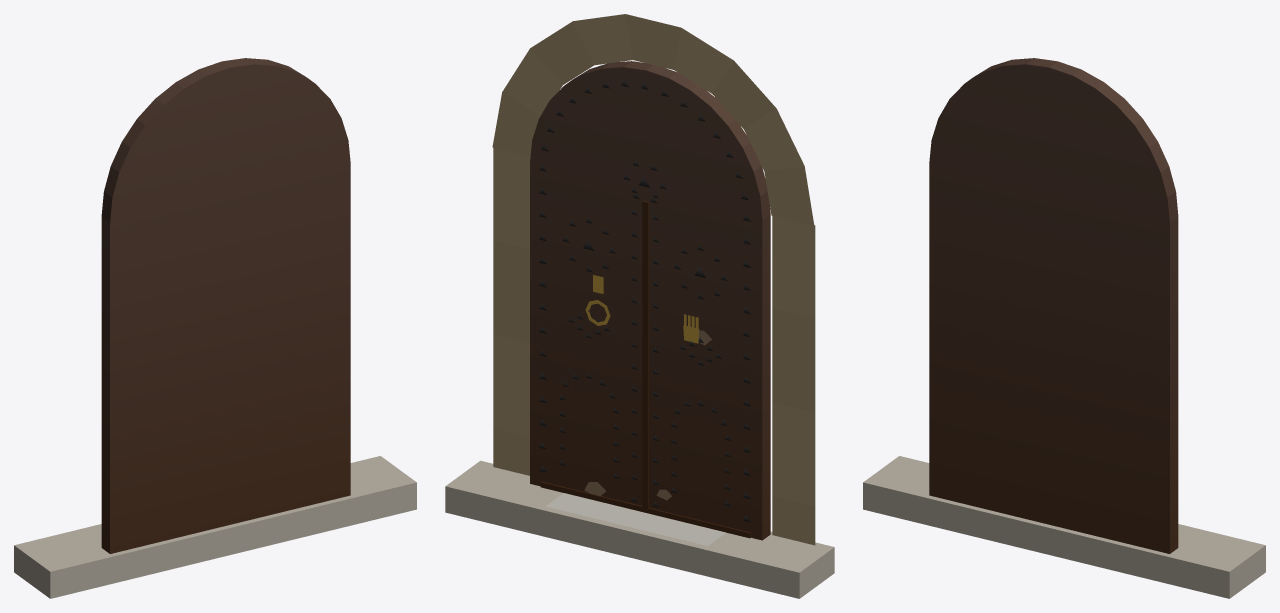
Rendered from door_medina_wood.glb.
3 renders of one model, left to right at view 1: azimuth 30°, elevation 25°; view 2: azimuth 150°, elevation 25°; view 3: azimuth 330°, elevation 25°, orthographic. The views are drawn at different scales.
Visible parts, largest first — view 1: door_medina_wood; view 2: door_medina_wood; view 3: door_medina_wood.
Part boxes in pixels (x1=…): door_medina_wood: x1=14, y1=58, x2=416, y2=598; door_medina_wood: x1=445, y1=14, x2=834, y2=598; door_medina_wood: x1=863, y1=58, x2=1265, y2=598.
Size of the model in its own units: 1.98 by 2.74 by 0.34.
